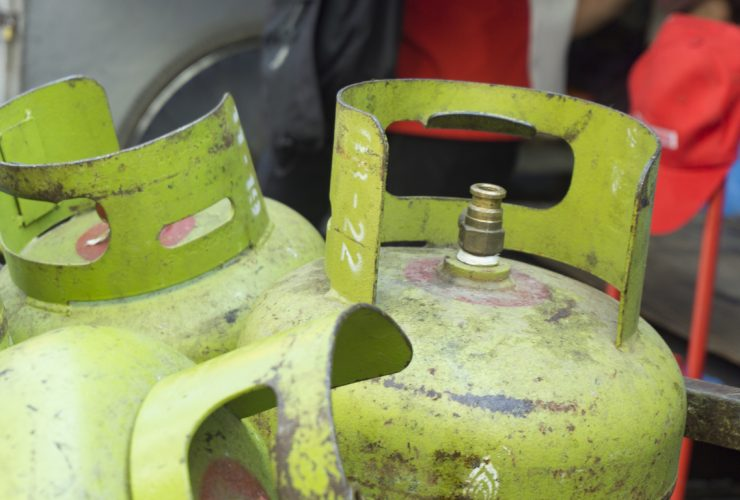gas_ijo: (236, 78, 689, 500), (1, 73, 327, 394), (1, 302, 413, 500)
